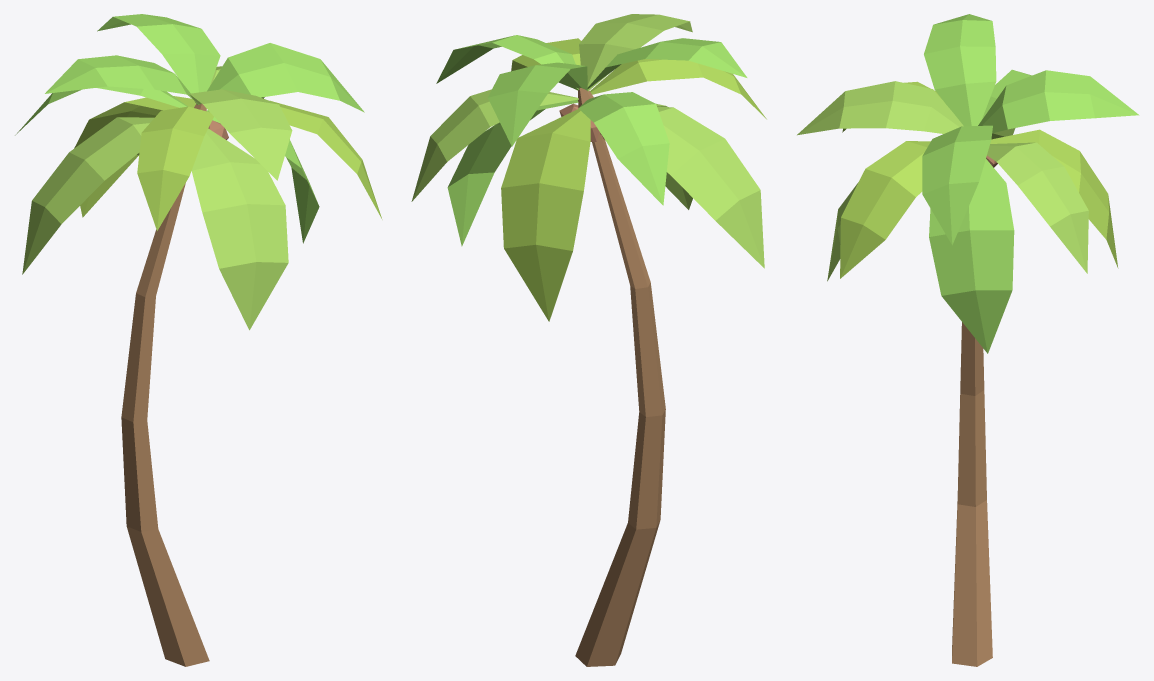
Rendered from Palm_Tree_Coconut_OneSided_l_03_LOD.fbx.
The picture shows the model from 3 angles, left to right: view 1: azimuth 30°, elevation 25°; view 2: azimuth 150°, elevation 25°; view 3: azimuth 270°, elevation 25°; orthographic projection. The views are drawn at different scales.
Visible parts, largest first — view 1: Palm_Tree_Coconut_OneSided_l_03_LOD0; view 2: Palm_Tree_Coconut_OneSided_l_03_LOD0; view 3: Palm_Tree_Coconut_OneSided_l_03_LOD0.
Boxes of the visible parts, <box> form: Palm_Tree_Coconut_OneSided_l_03_LOD0: <box>15,14,382,666</box>; Palm_Tree_Coconut_OneSided_l_03_LOD0: <box>411,14,766,666</box>; Palm_Tree_Coconut_OneSided_l_03_LOD0: <box>797,14,1139,666</box>.
Size of what is drawn, in the model's own units: 442 by 784 by 412.
